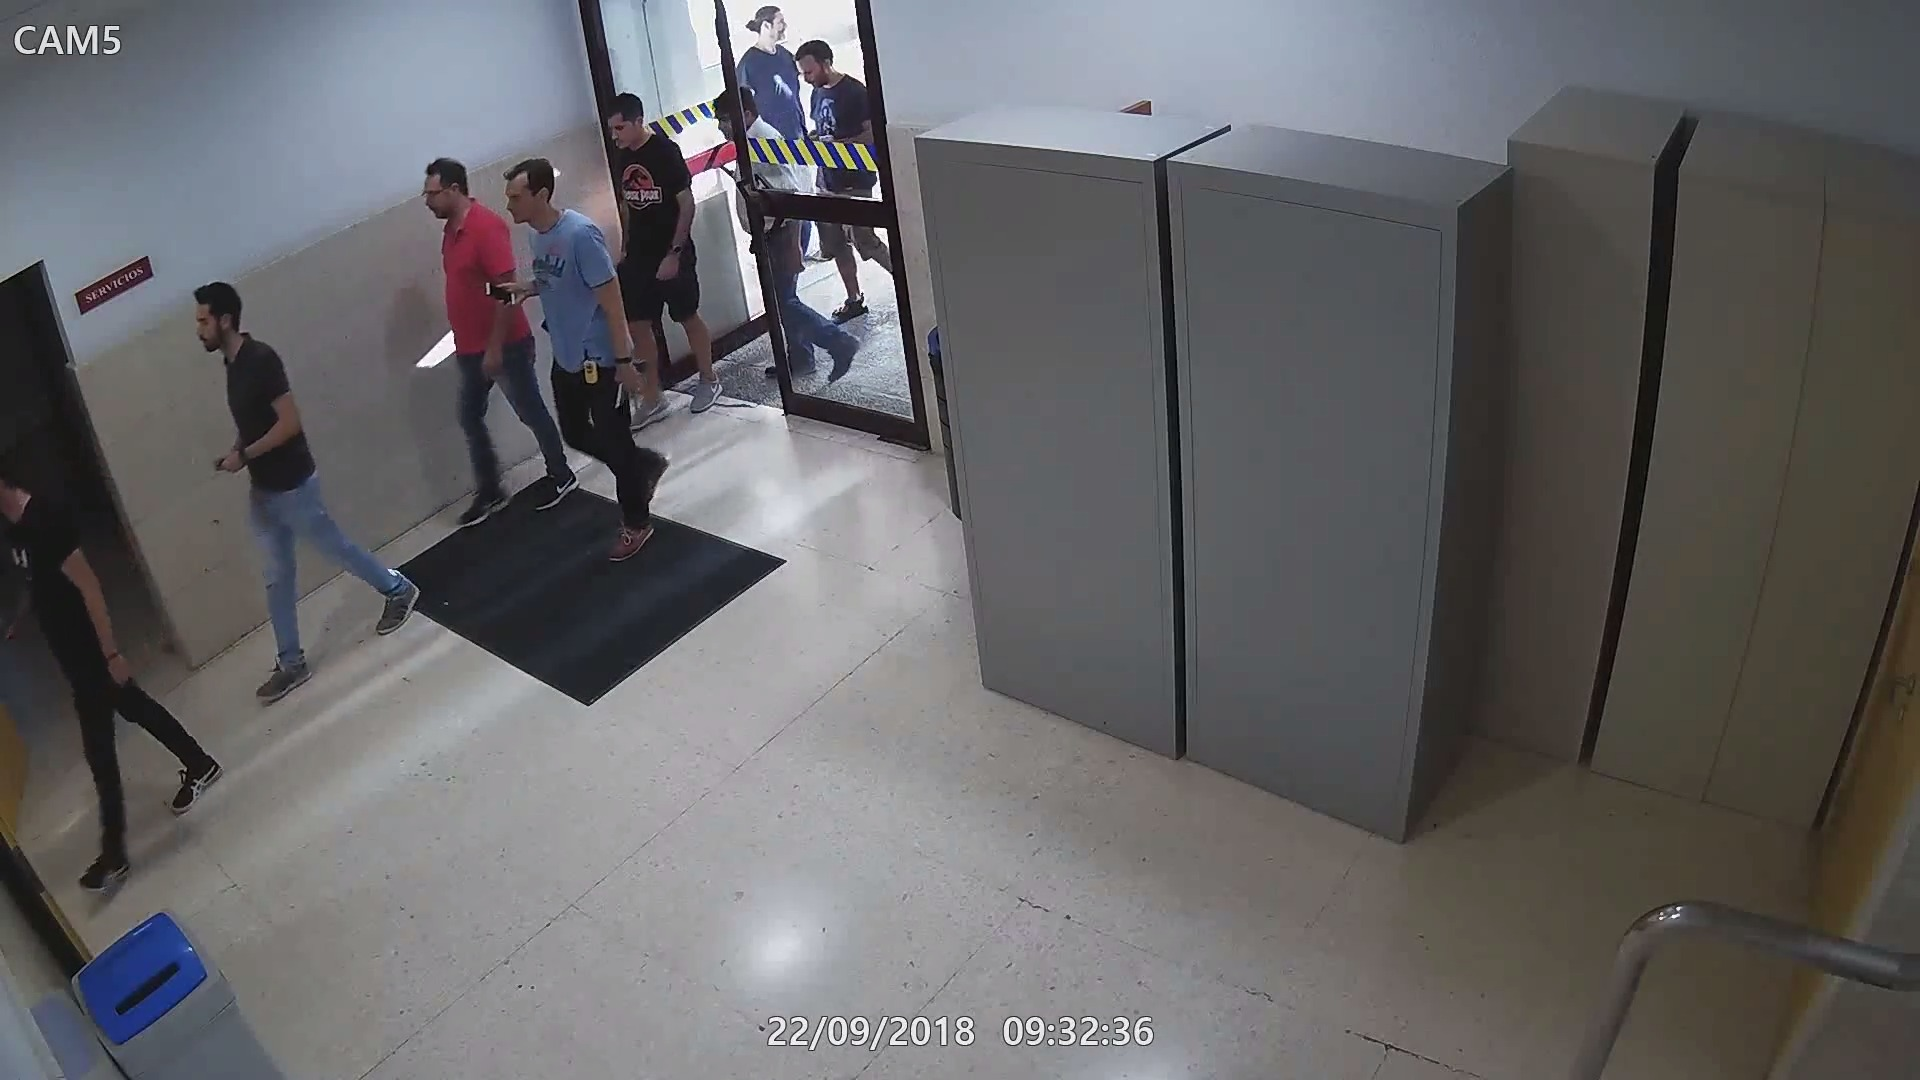Handgun: (615, 355, 651, 415), (0, 615, 25, 665), (207, 448, 244, 477)
Knife: (618, 363, 645, 425)
